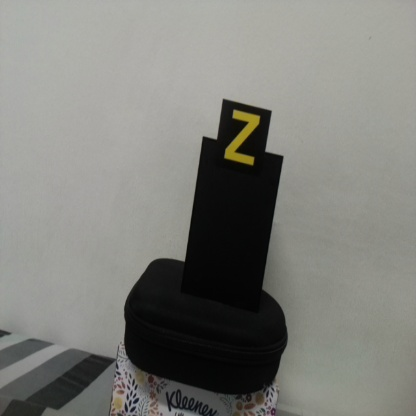id_15: (220, 101, 270, 178)
